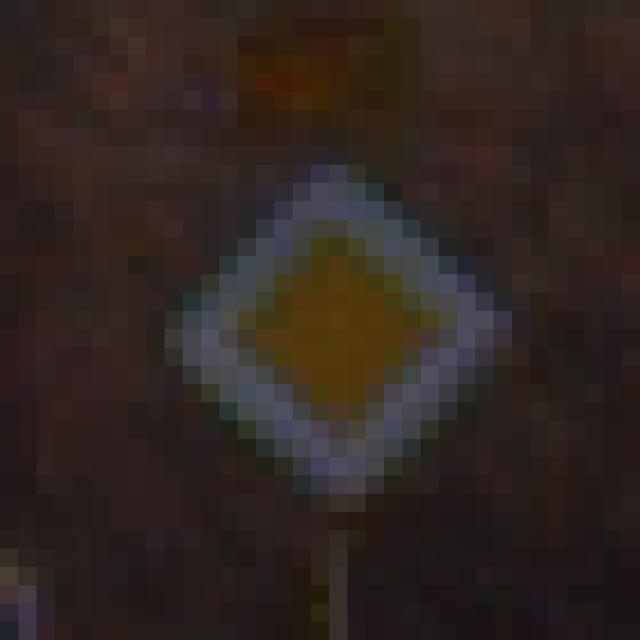Main Road: (93, 93, 550, 550)
